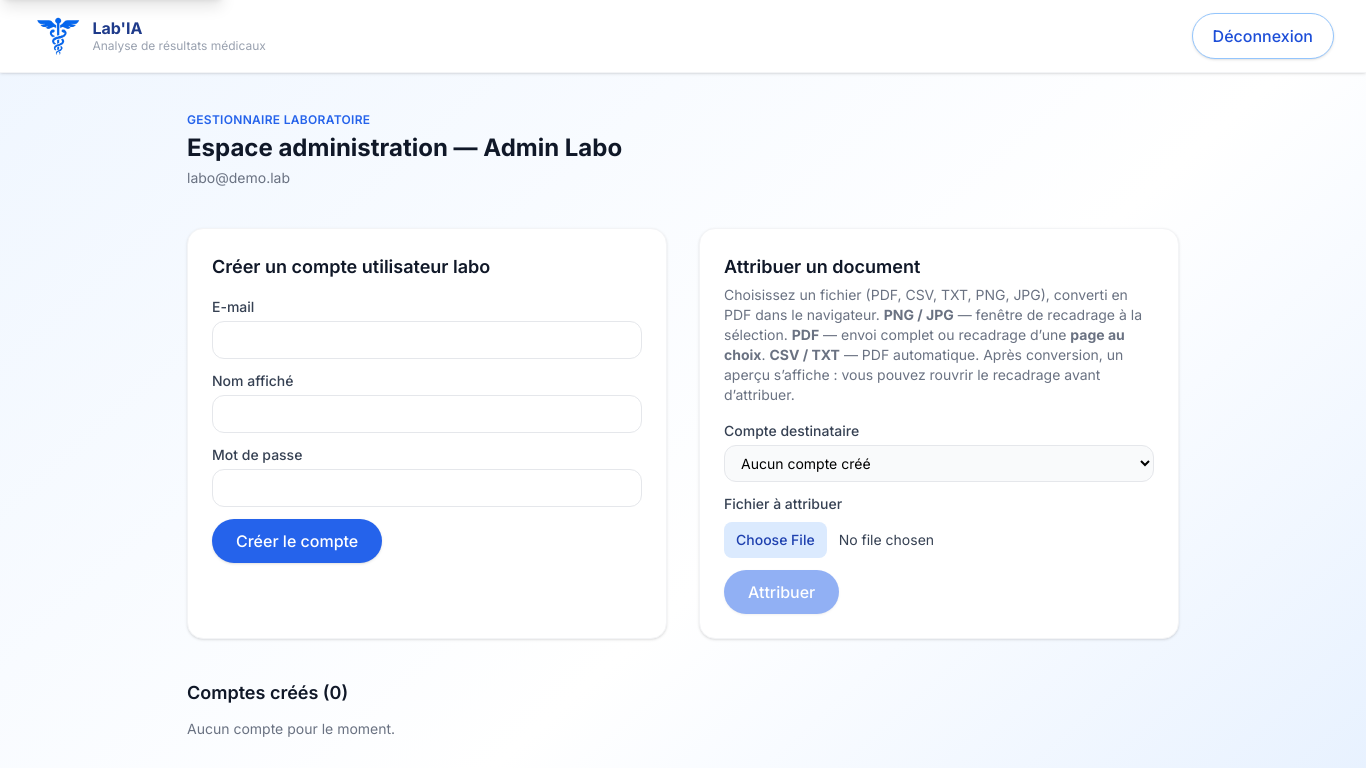
Test: LaboDashboard — intégration › crée un compte et l'ajoute dans le tableau
Type "alice@test.com" into the field labelled "E-mail".
click(427, 340); type("alice@test.com")  # box [212,321,642,359]
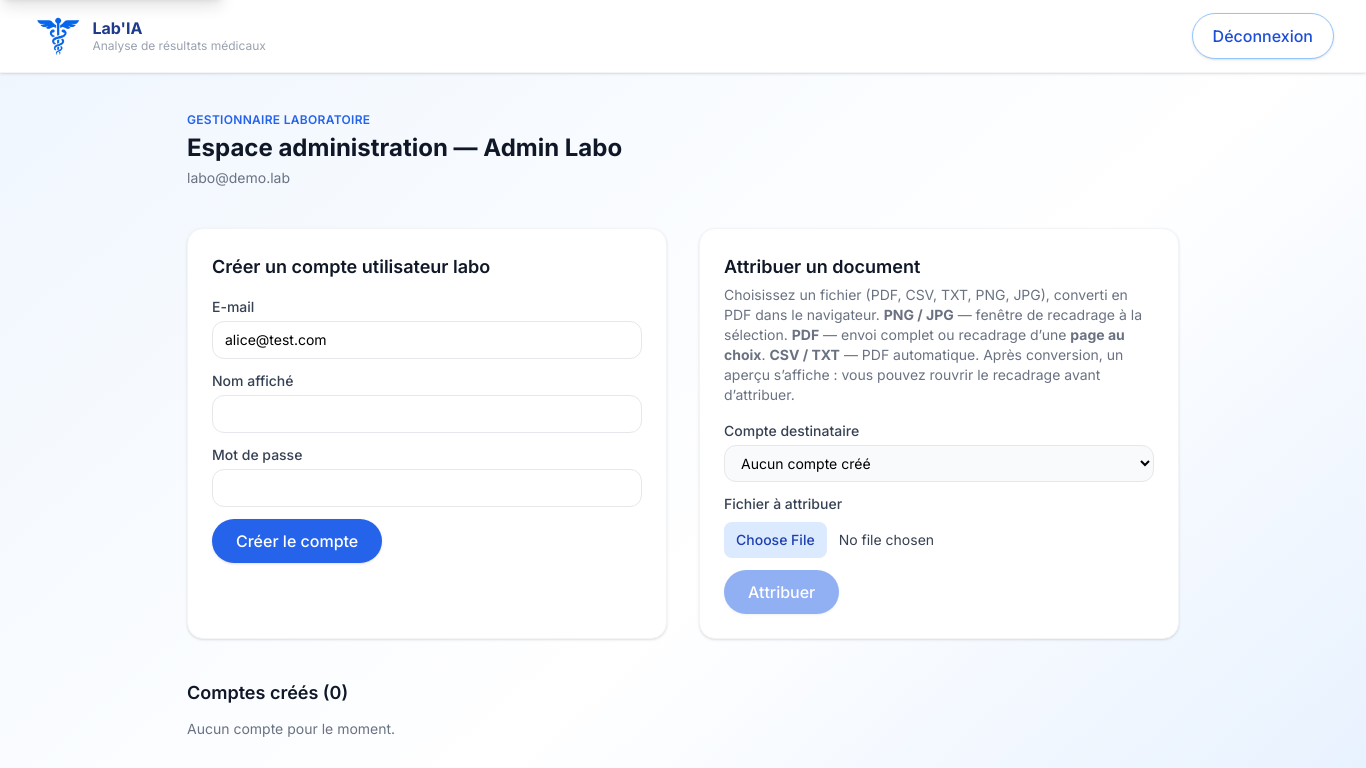
Type "Alice Martin" into the field labelled "Nom affiché".
click(427, 414); type("Alice Martin")  # box [212,395,642,433]
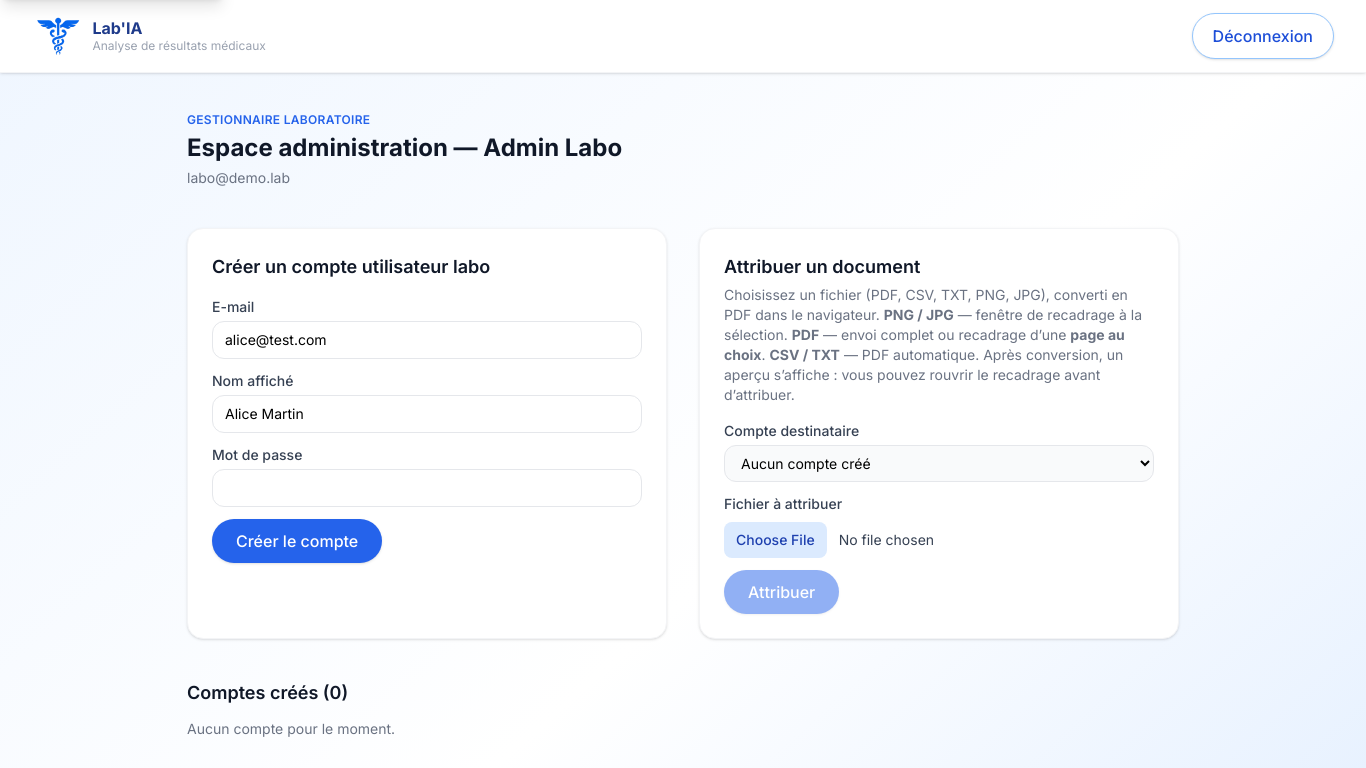
Type "motdepasse" into the password field labelled "Mot de passe".
click(427, 488); type("motdepasse")  # box [212,469,642,507]
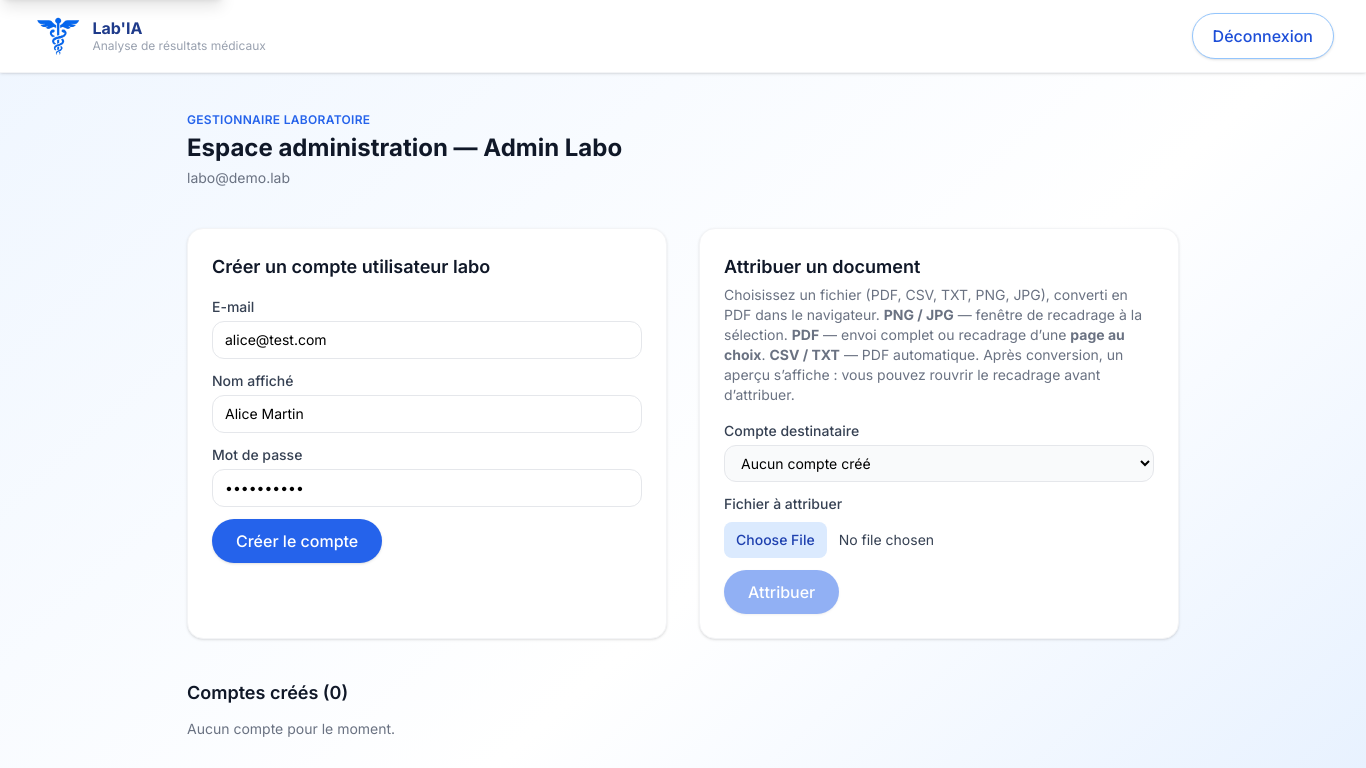
Click the button "Créer le compte".
click(297, 541)  # box [212,519,382,563]
(page scrolled)
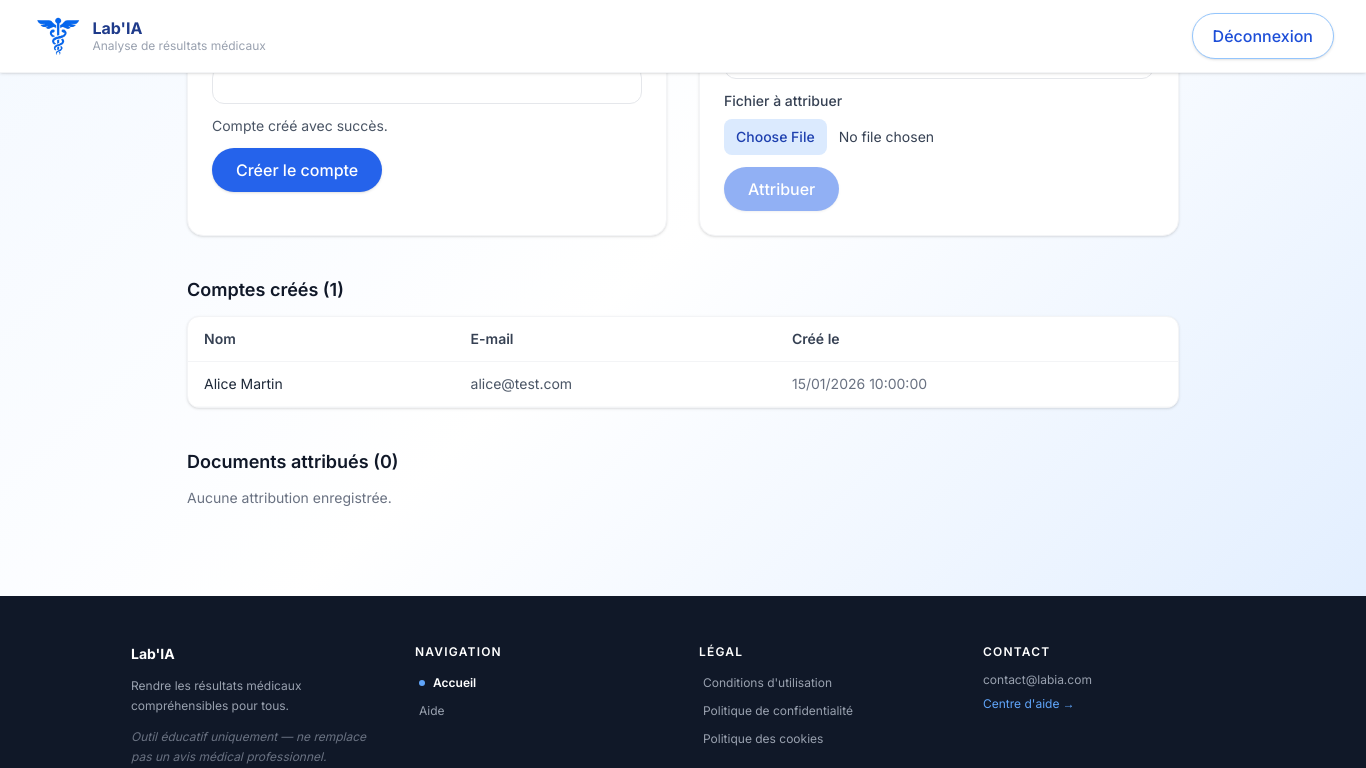
Now the text "Alice Martin" is shown, box [188,362,454,406]
